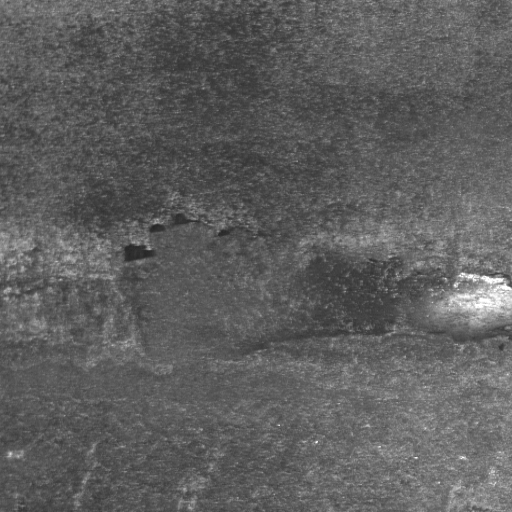qiaopi: (122, 222, 512, 353)
